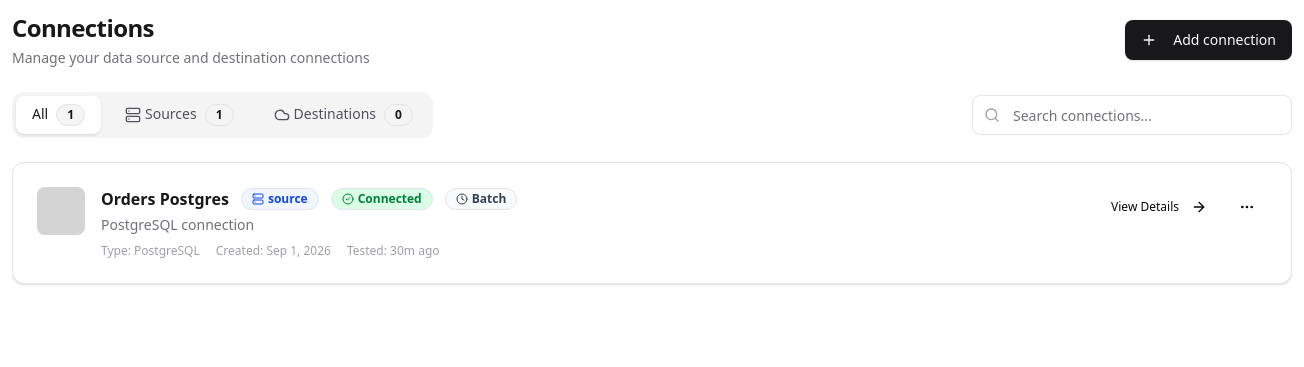
Scenario: connections list — last test error › a test that fails turns a Connected row into Test failed with the reason
Expected: the text "Connected" is shown, [331, 188, 433, 210]
Click the button named "Actions for Orders Postgres" at (1247, 207), box [1227, 187, 1267, 227]
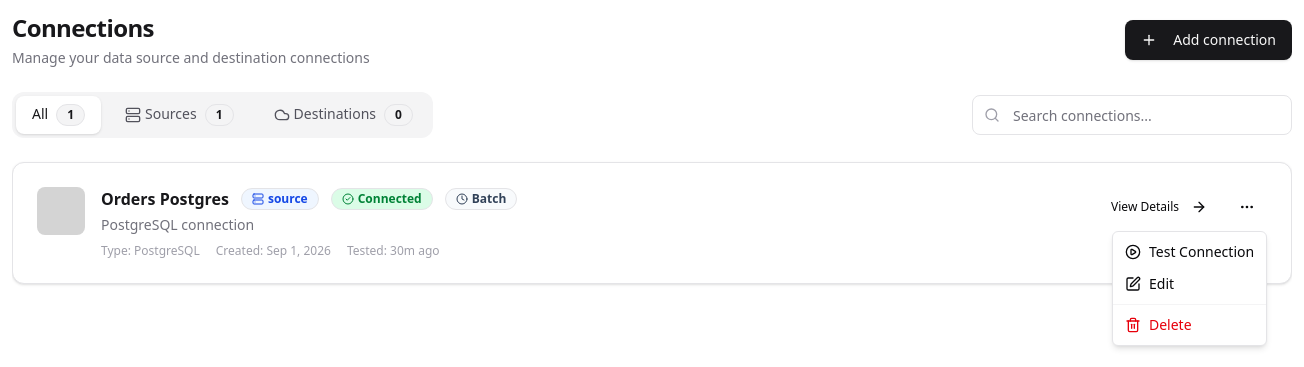
Click the menu item "Test Connection" at (1190, 252), box [1125, 242, 1254, 261]
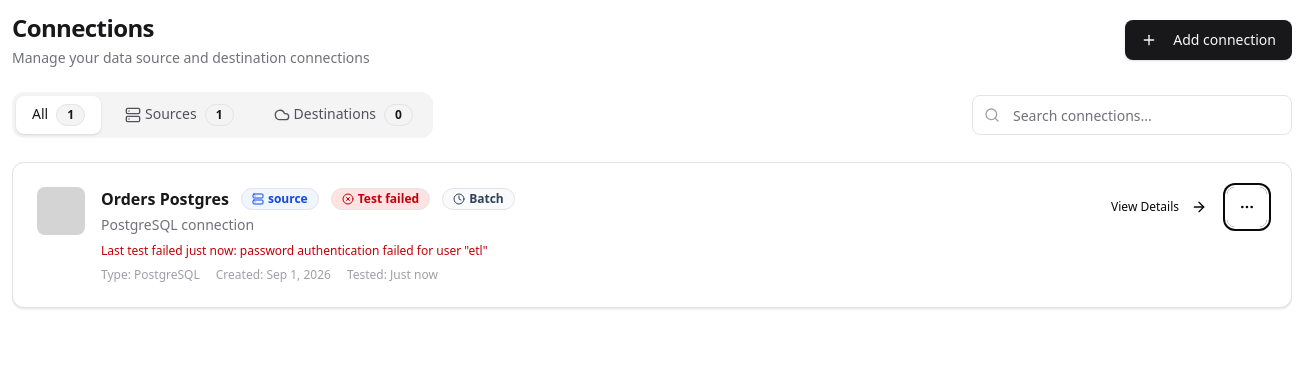
Now the text "Test failed" is shown, box [331, 188, 430, 210]
Now the text "Connected" is gone
Now the element with test id "connection-last-test-error" shows "password authentication failed for user \"etl\"", box [240, 242, 488, 259]
